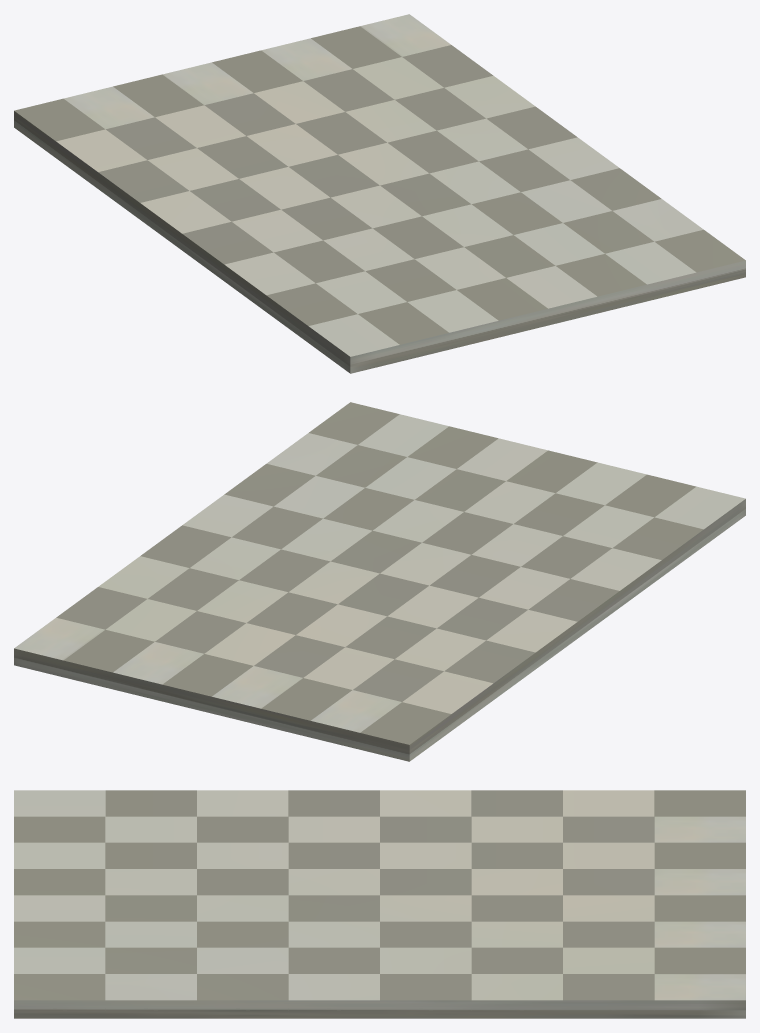
Rendered from Board.fbx.
The picture shows the model from 3 angles, top to bottom: view 1: azimuth 30°, elevation 25°; view 2: azimuth 150°, elevation 25°; view 3: azimuth 270°, elevation 25°; orthographic projection. The views are drawn at different scales.
Visible parts, largest first — view 1: Cube.013; view 2: Cube.013; view 3: Cube.013.
Part boxes in pixels (left/top/right/bottom): Cube.013: left=14, top=14, right=745, bottom=373; Cube.013: left=14, top=402, right=745, bottom=761; Cube.013: left=14, top=790, right=745, bottom=1018.
Bounding box in the file's own units: 2665 × 109 × 3928.
